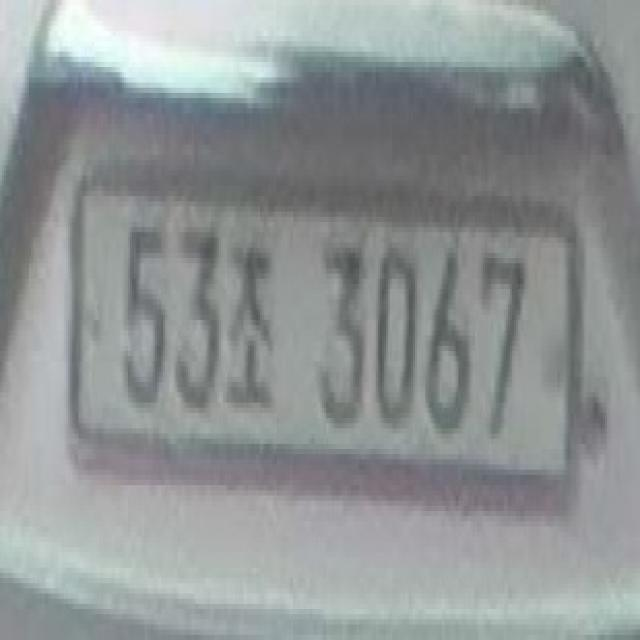0: (370, 237, 425, 433)
3: (318, 222, 365, 439), (176, 212, 225, 413)
5: (124, 217, 171, 418)
6: (423, 237, 477, 433)
7: (475, 238, 530, 454)
jo: (223, 227, 299, 428)
license_plate: (64, 170, 590, 511)
